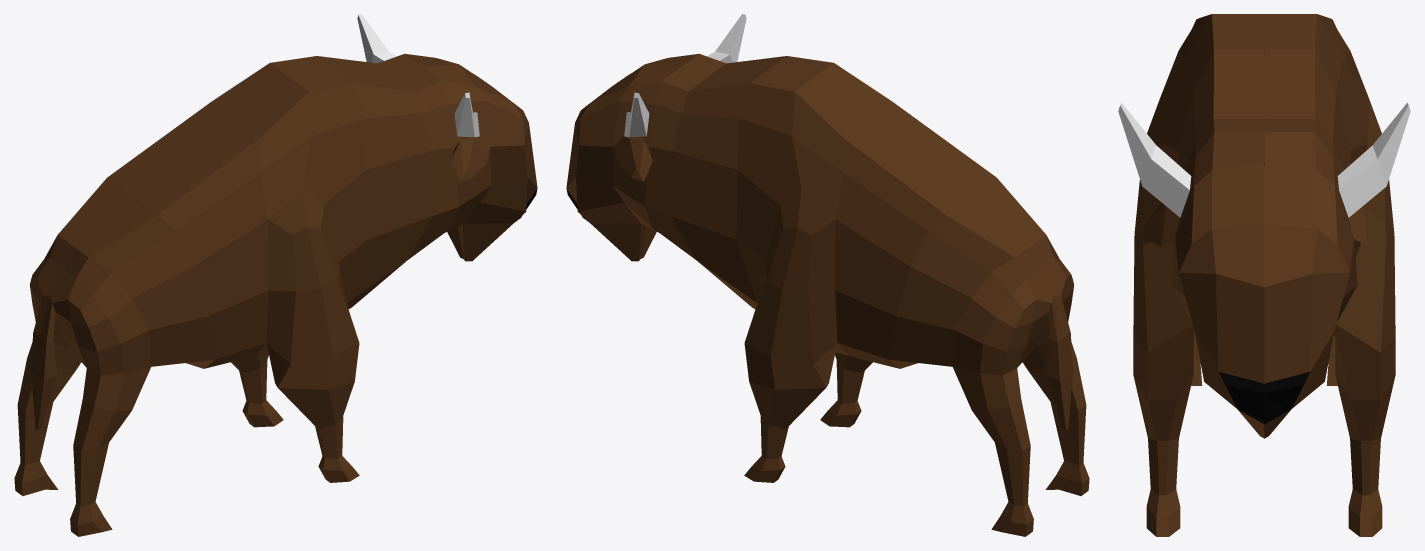
File: buffaloo.fbx
3 renders of one model, left to right at view 1: azimuth 30°, elevation 25°; view 2: azimuth 150°, elevation 25°; view 3: azimuth 270°, elevation 25°, orthographic. The views are drawn at different scales.
Visible parts, largest first — view 1: Plane; view 2: Plane; view 3: Plane.
Part boxes in pixels (x1,y1,x2,y2): Plane: (14,14,537,536); Plane: (566,14,1089,536); Plane: (1118,14,1410,536).
Bounding box in the file's own units: 137 × 102 × 53.12.
